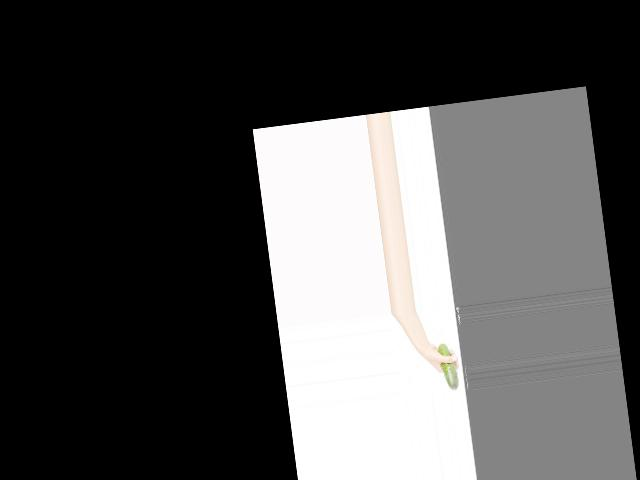cucumber: (437, 342, 460, 392)
